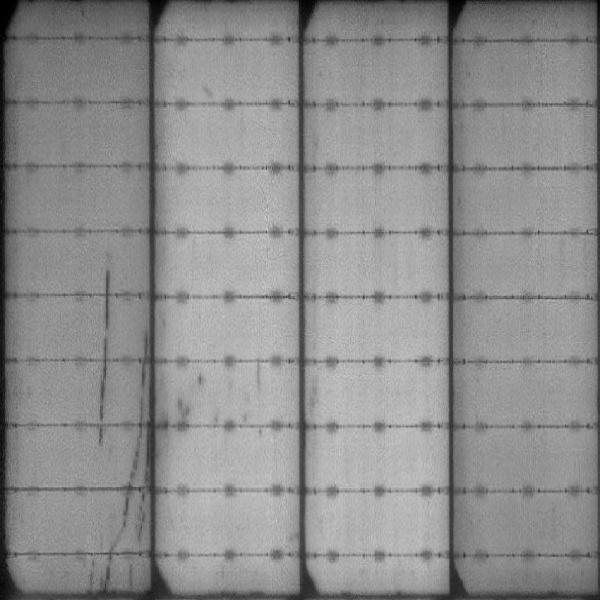scratch: (92, 268, 111, 445), (139, 328, 152, 578), (85, 557, 137, 591), (173, 372, 202, 417), (111, 490, 133, 549), (129, 427, 143, 487), (250, 360, 273, 394)
